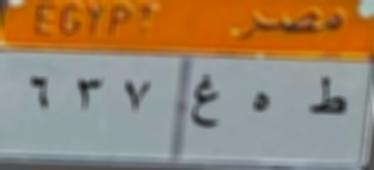3: (74, 72, 104, 119)
6: (25, 68, 56, 120)
7: (121, 74, 153, 122)
Taa: (305, 68, 348, 125)
ghayn: (190, 69, 222, 138)
haa: (246, 84, 276, 126)
